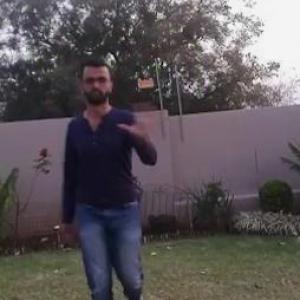follow_hand: (118, 100, 164, 140)
